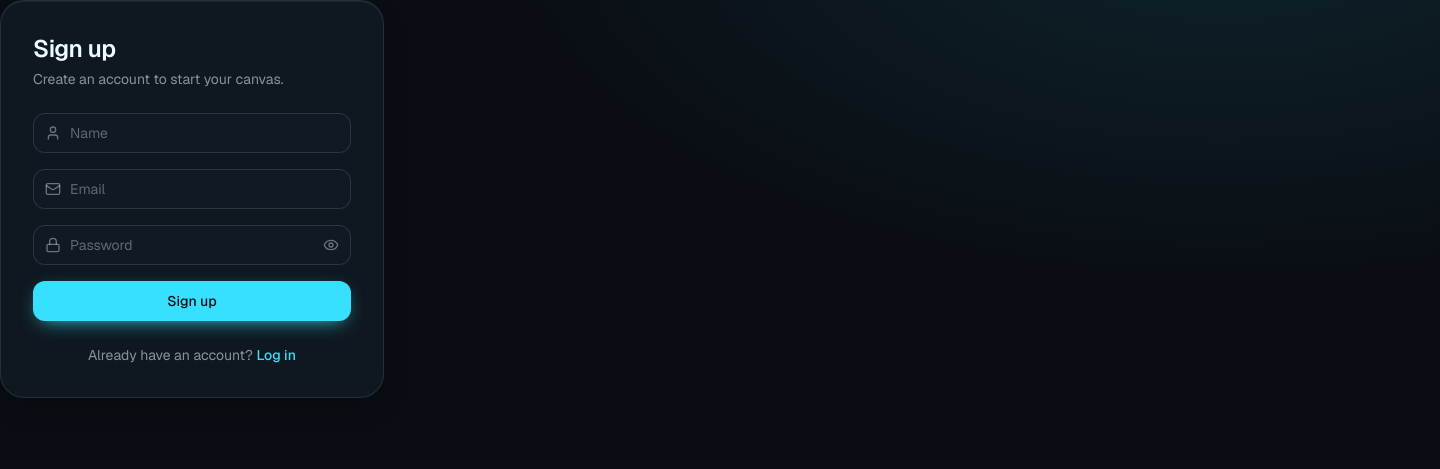
Test case: SignupPage › shows an error message when signup rejects
Type "Ann" into the field with placeholder "Name". click: [192, 133]
box: top-left (33, 113), bottom-right (351, 153)
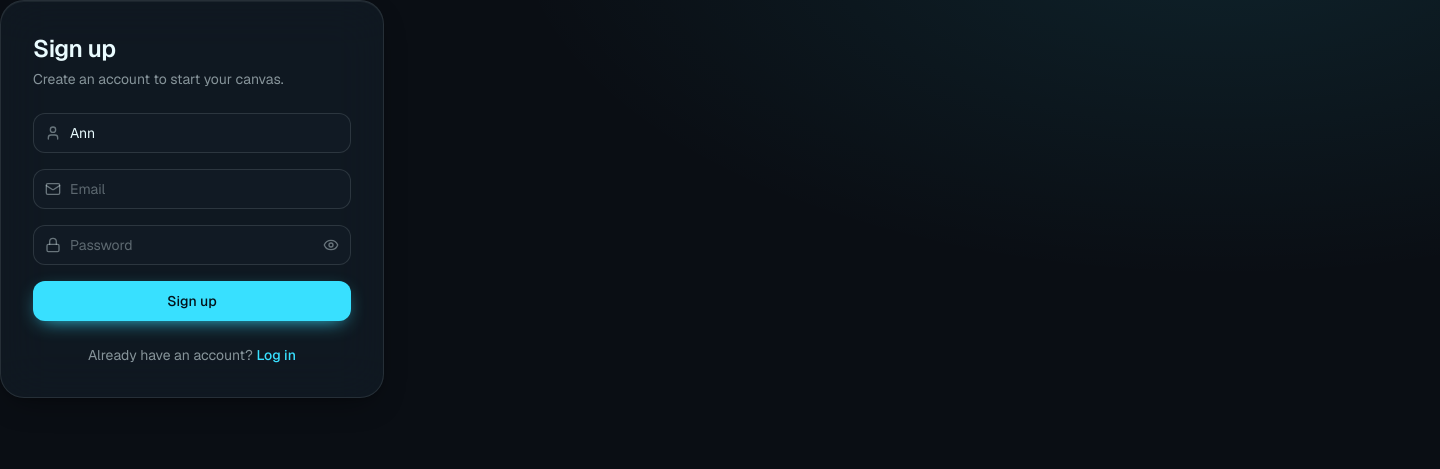
Type "a@example.com" into the field with placeholder "Email". click: [192, 189]
box: top-left (33, 169), bottom-right (351, 209)
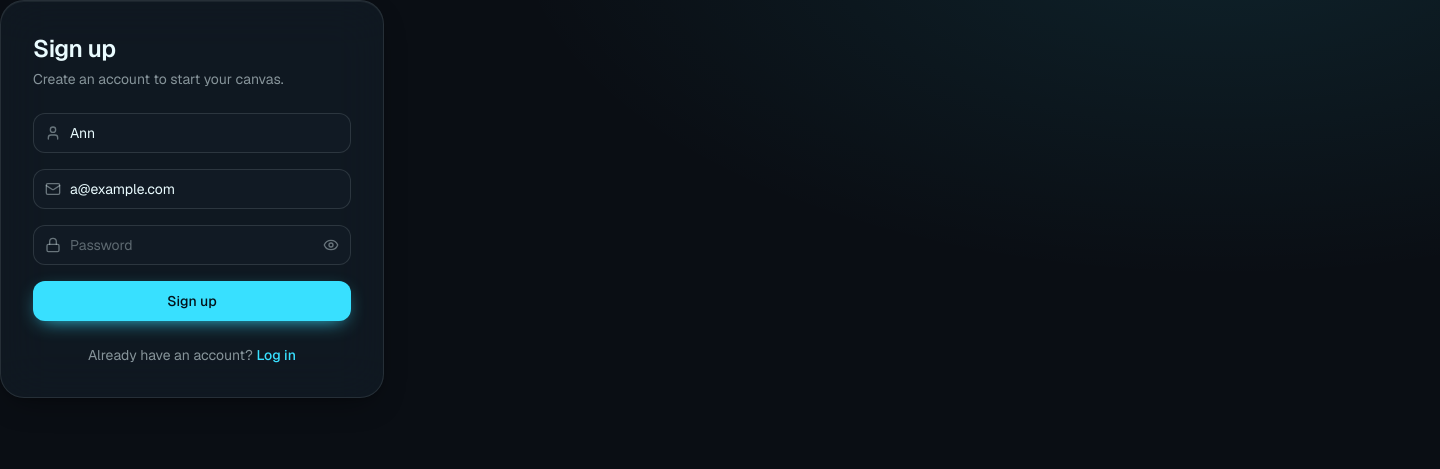
Type "correcthorse123" into the password field with placeholder "Password". click: [192, 245]
box: top-left (33, 225), bottom-right (351, 265)
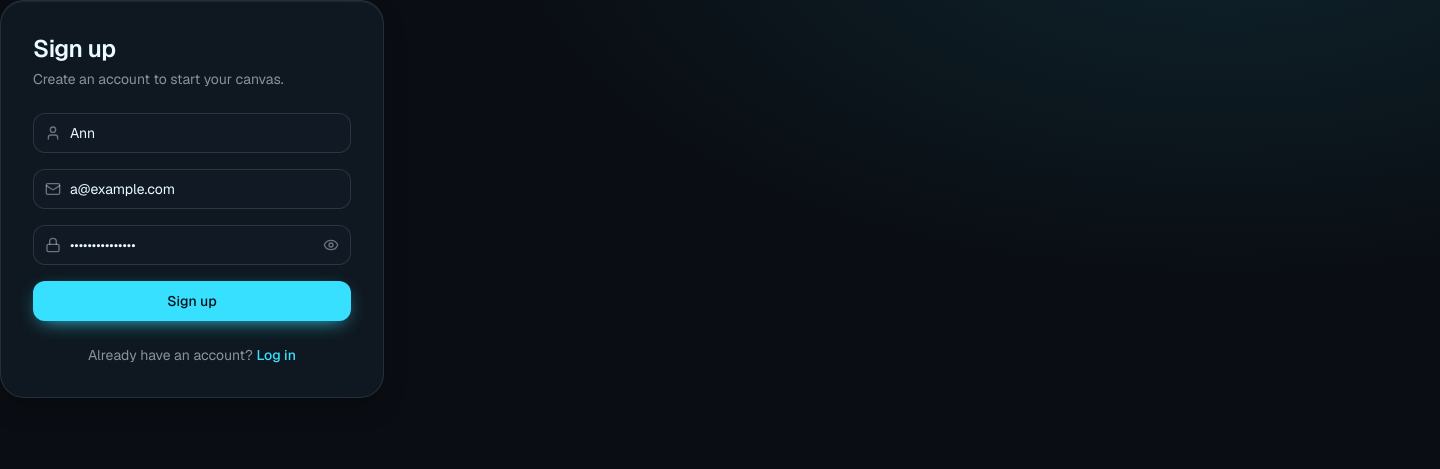
Click the button "Sign up". click: [192, 301]
box: top-left (33, 281), bottom-right (351, 321)
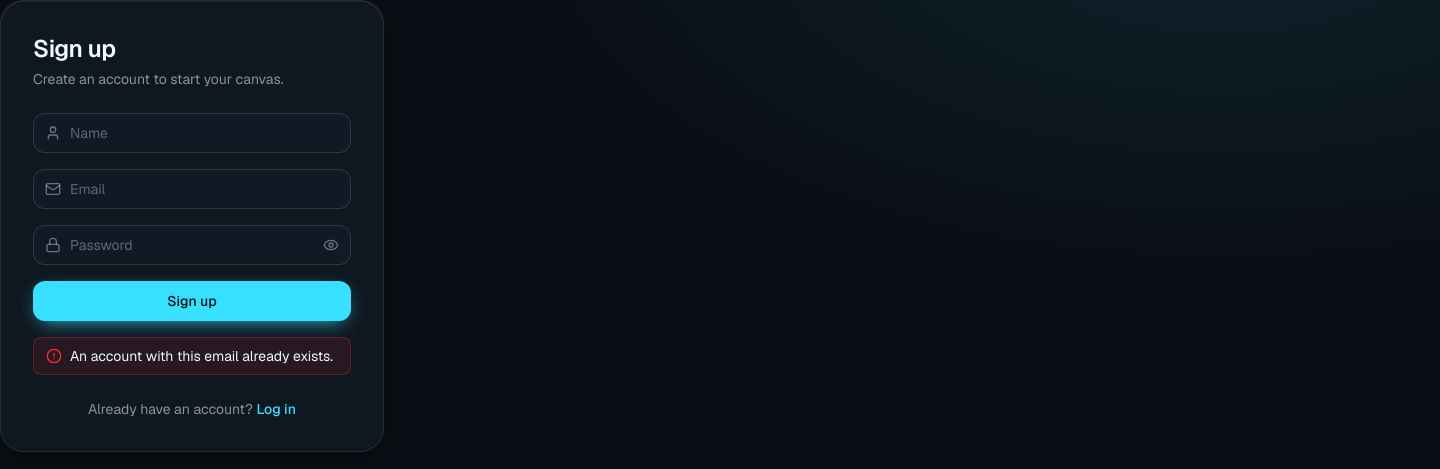
Now the message reads "An account with this email already exists.", box top-left (70, 347), bottom-right (333, 365)
